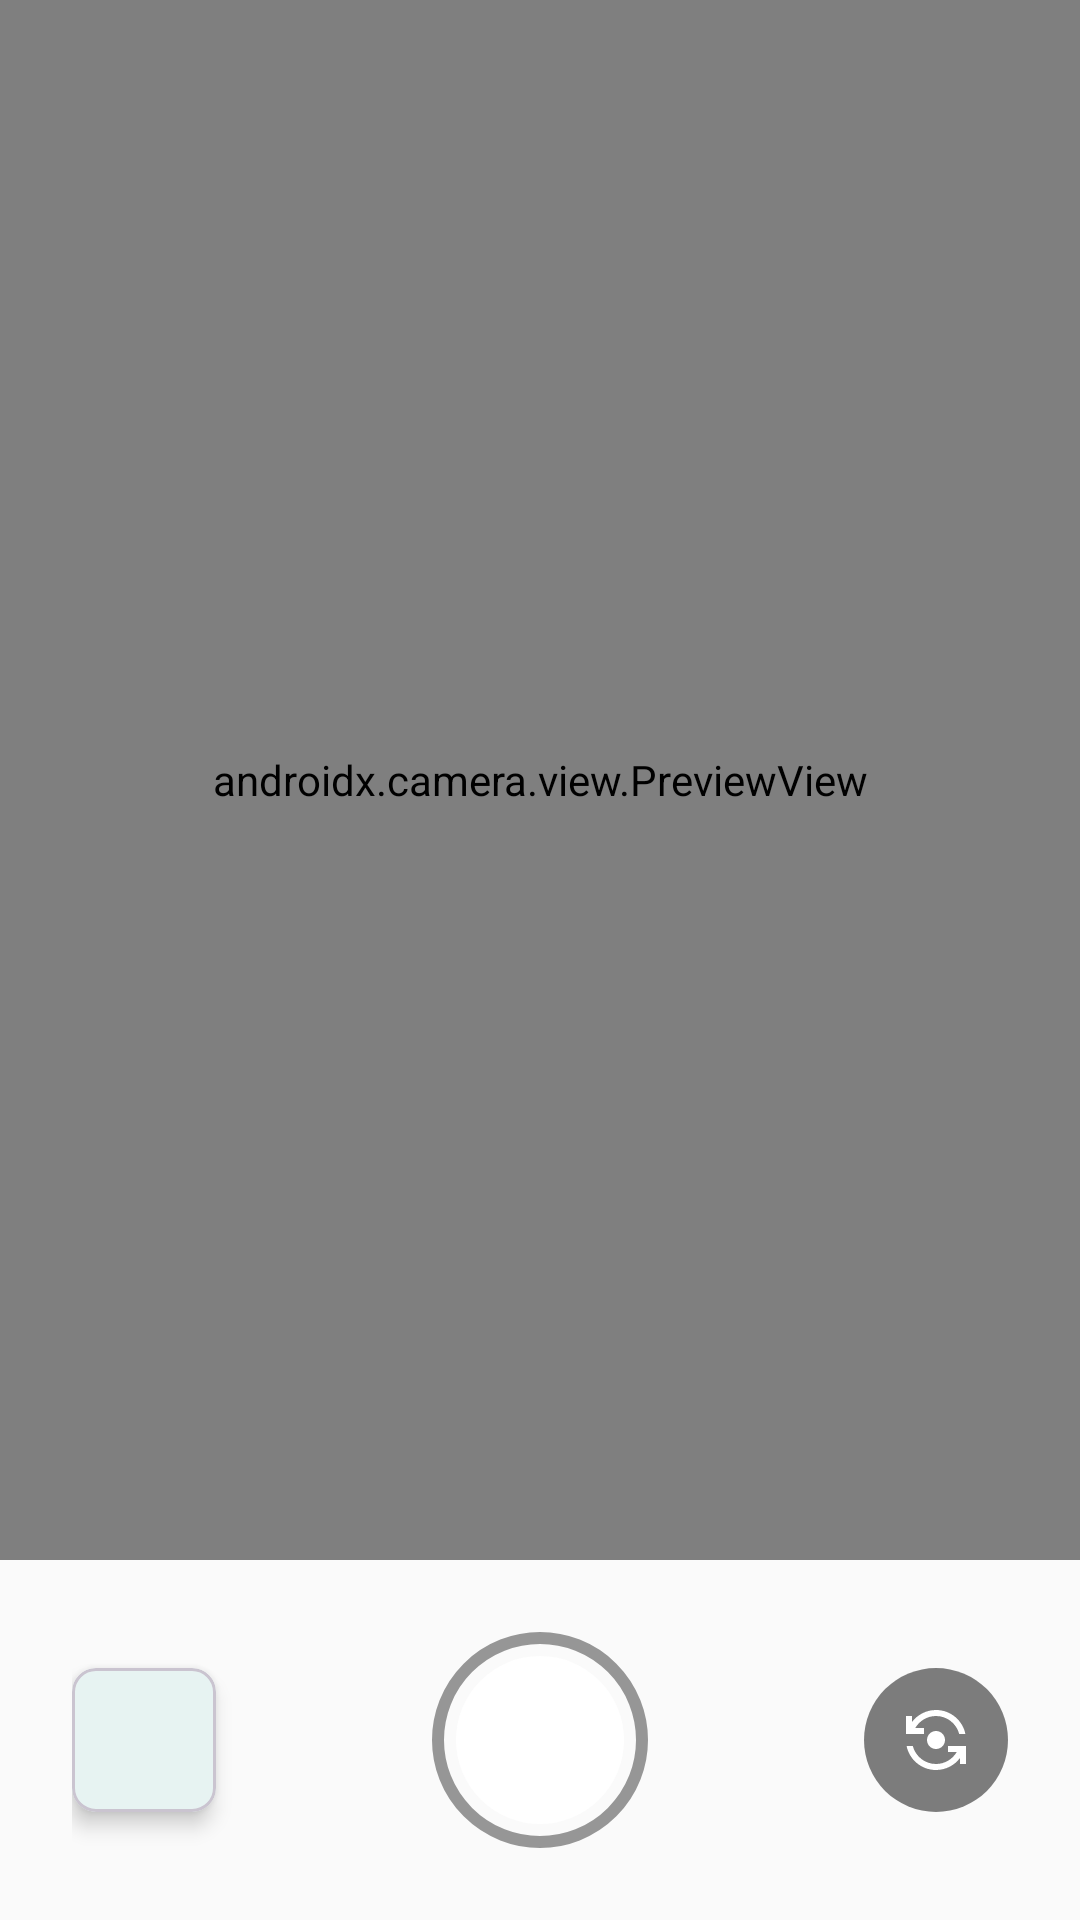

Screen size 1080x1920. Icon name, then its box in pixels as region(x1, y1, x2, y2):
Переключить камеру: region(864, 1668, 1008, 1812)
